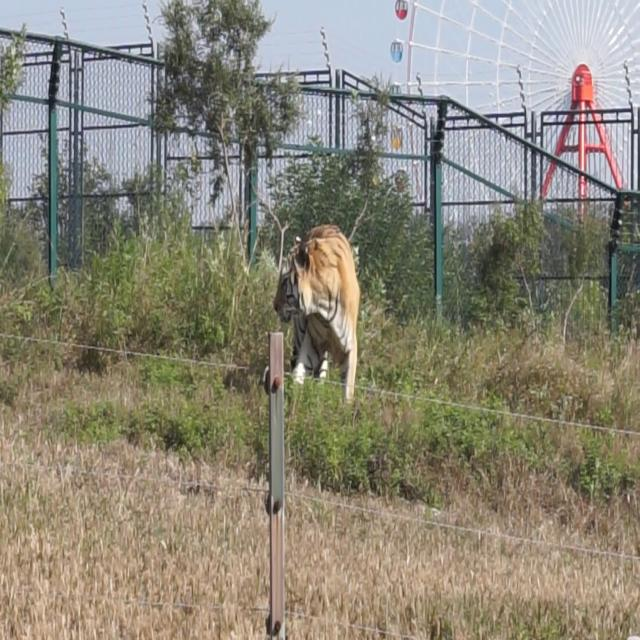Tiger: (270, 212, 386, 432)
